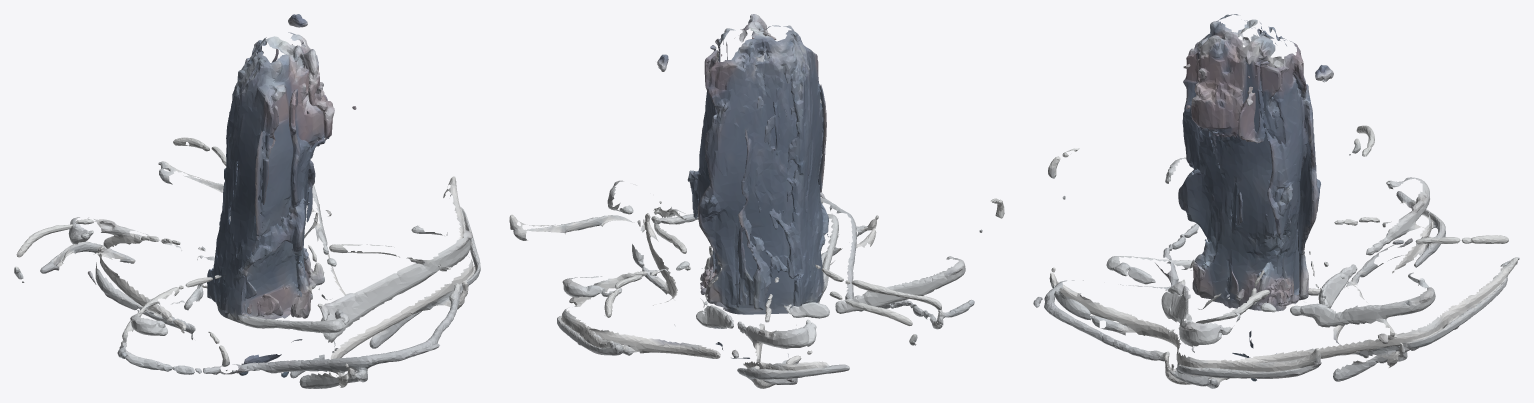
The model's file is finished_model_20260511_162315.glb.
The picture shows the model from 3 angles, left to right: view 1: azimuth 30°, elevation 25°; view 2: azimuth 150°, elevation 25°; view 3: azimuth 270°, elevation 25°; orthographic projection. The views are drawn at different scales.
Visible parts, largest first — view 1: finished_model_20260511_162315.ply; view 2: finished_model_20260511_162315.ply; view 3: finished_model_20260511_162315.ply.
Part boxes in pixels (box(x1,y1,x2,y2)): finished_model_20260511_162315.ply: box(14, 14, 480, 388); finished_model_20260511_162315.ply: box(509, 14, 1004, 388); finished_model_20260511_162315.ply: box(1033, 14, 1519, 388).
Bounding box in the file's own units: 0.188 × 0.1454 × 0.1812.
